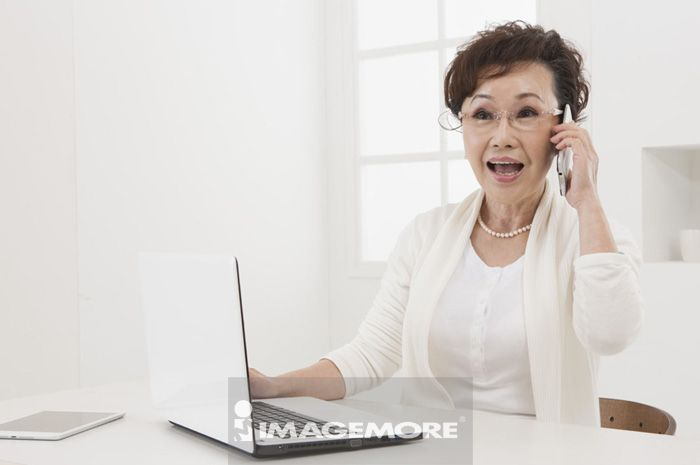phone: (557, 103, 576, 197)
talk: (463, 87, 602, 208)
